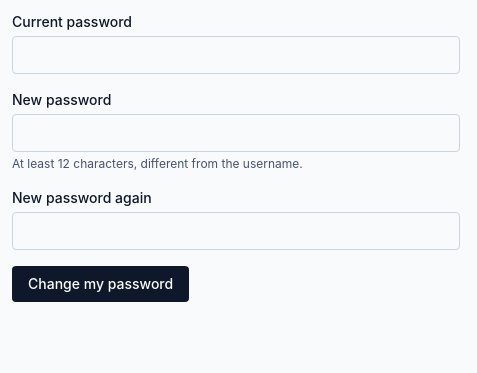
Test: ChangeOwnPasswordForm › refuses a short password in the browser
The width and height of the screenshot is (477, 373).
Type "my current password" into the password field labelled "Current password" at {"x": 236, "y": 55}, box top-left (12, 36), bottom-right (460, 74)
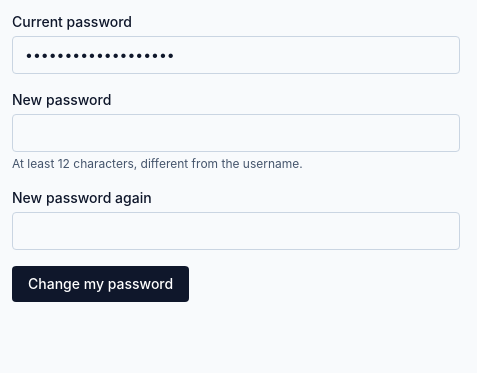
Type "short" into the password field labelled "New password" at {"x": 236, "y": 133}, box top-left (12, 114), bottom-right (460, 152)
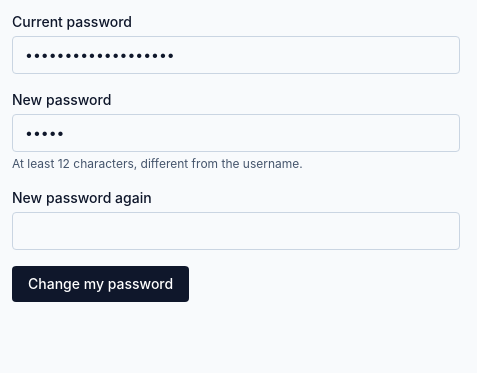
Type "short" into the password field labelled "New password again" at {"x": 236, "y": 231}, box top-left (12, 212), bottom-right (460, 250)
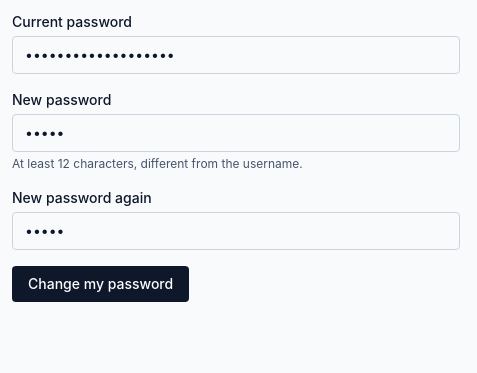
Click the button "Change my password" at {"x": 101, "y": 284}, box top-left (12, 266), bottom-right (189, 302)
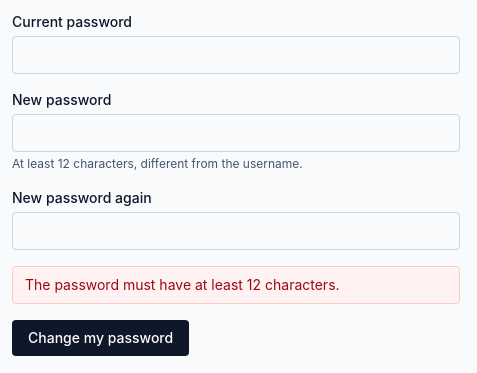
Expected: the message shows "at least 12 characters", top-left (25, 276), bottom-right (340, 293)
